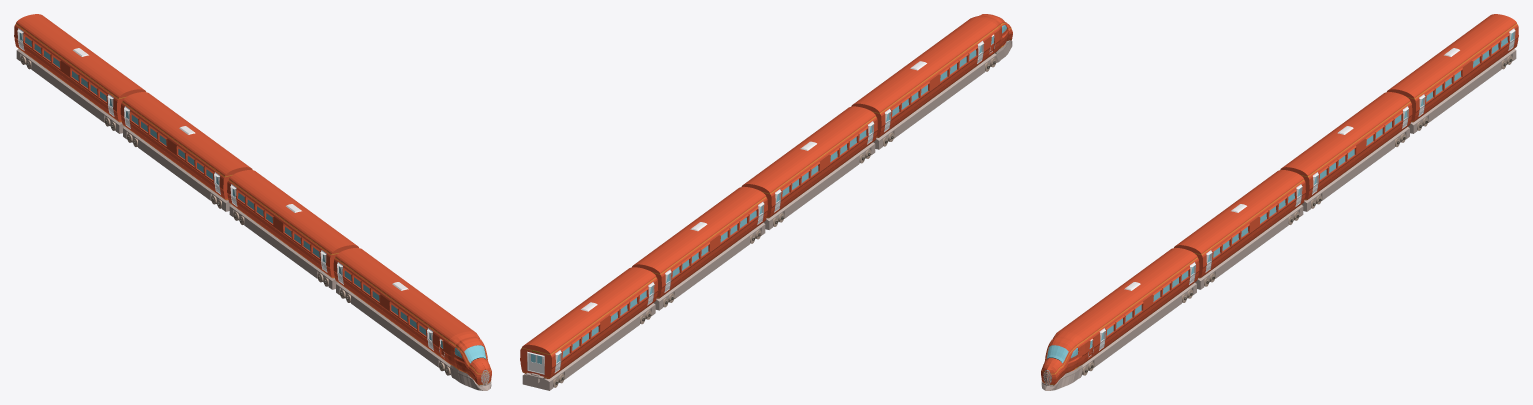
The model's file is Train.fbx.
3 views of the same model, side by side, from view 1: azimuth 30°, elevation 25°; view 2: azimuth 150°, elevation 25°; view 3: azimuth 330°, elevation 25° (orthographic). The views are drawn at different scales.
Visible parts, largest first — view 1: Cube.005, Cube.006; view 2: Cube.005, Cube.006; view 3: Cube.005, Cube.006.
Part boxes in pixels (left/top/right/bottom): Cube.005: left=14, top=14, right=358, bottom=289; Cube.006: left=333, top=248, right=491, bottom=390; Cube.005: left=520, top=106, right=877, bottom=390; Cube.006: left=851, top=14, right=1012, bottom=149; Cube.005: left=1174, top=14, right=1518, bottom=289; Cube.006: left=1041, top=248, right=1199, bottom=390.
Bounding box in the file's own units: 102 × 123 × 2412.
